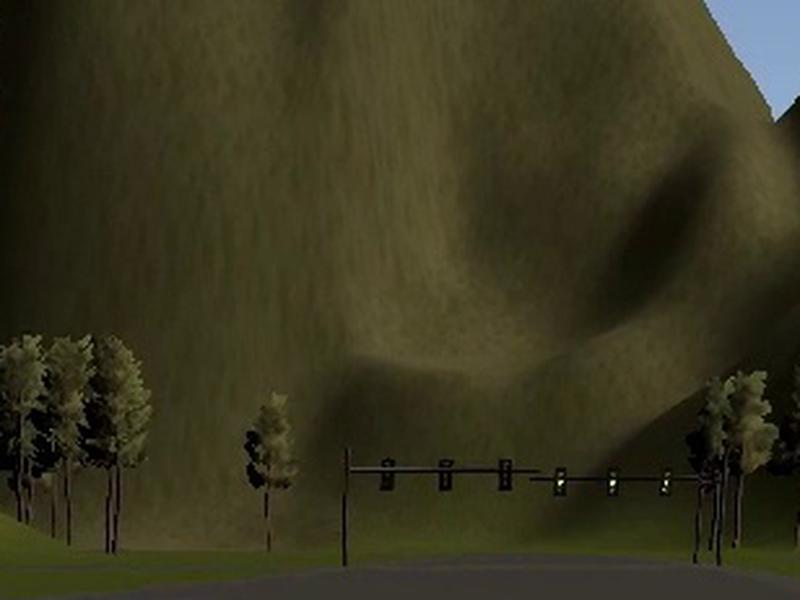Yellow: (606, 466, 620, 497), (553, 467, 567, 497), (659, 469, 672, 497)
